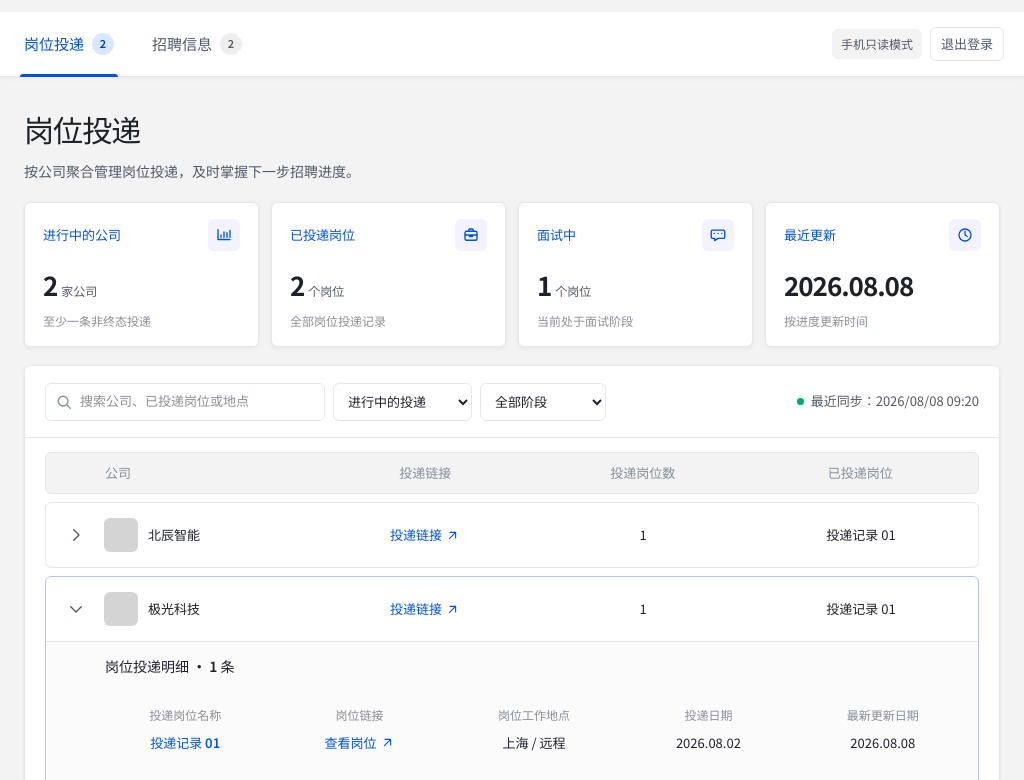
it: readonly WebApp › filters recruitment companies by priority and industry without exposing edits
expect the text "手机只读模式" is shown: met, box [832, 29, 922, 59]
Click the tab "招聘信息 2" at (197, 44), box [148, 12, 246, 76]
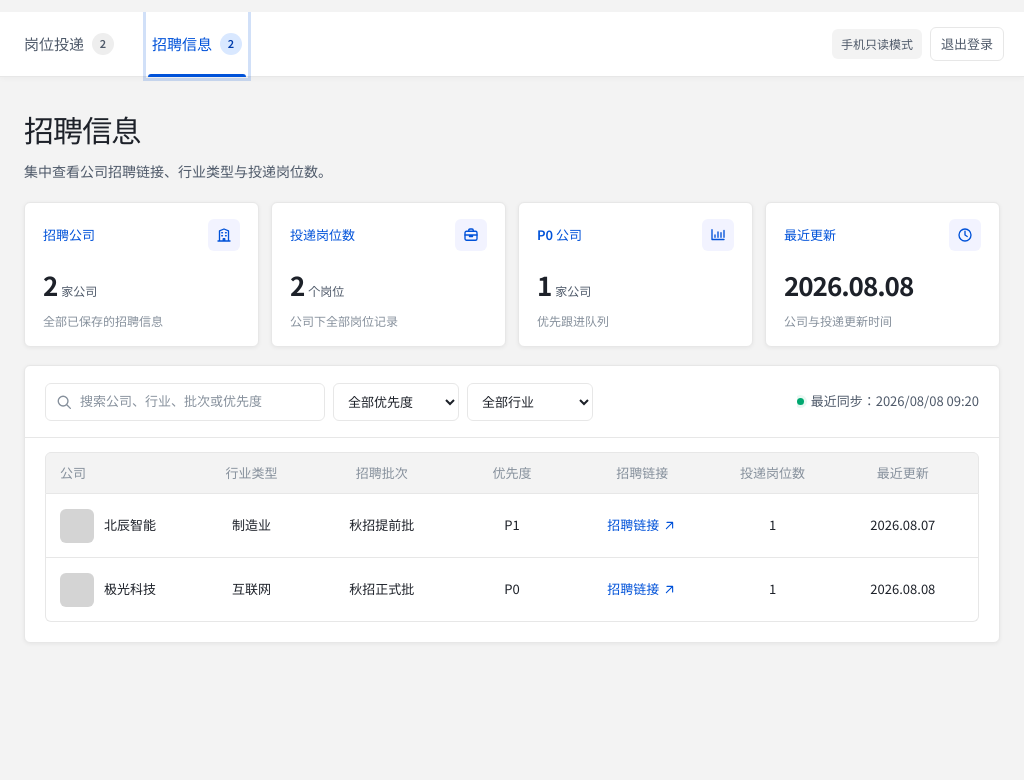
expect the text "极光科技" is shown: met, box [104, 579, 156, 600]
expect the text "北辰智能" is shown: met, box [104, 515, 156, 536]
Select "P0" in the 1st dropdown named "筛选优先度" at (396, 402), box [333, 383, 459, 421]
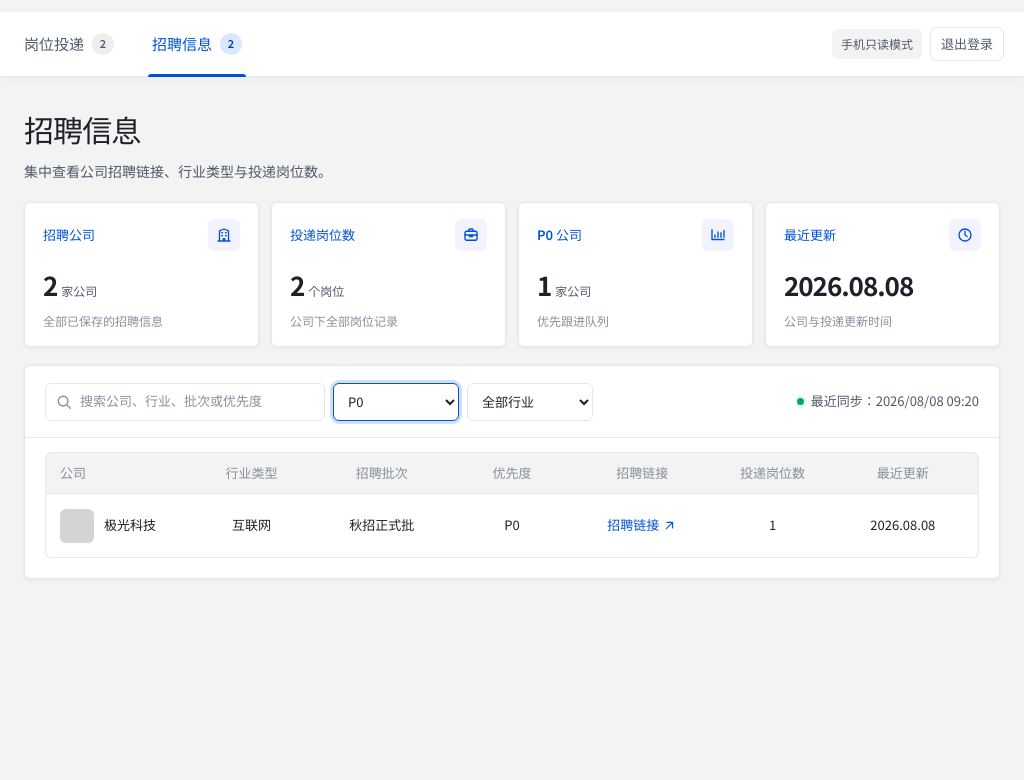
expect the text "极光科技" is shown: met, box [104, 515, 156, 536]
expect the text "北辰智能" is gone: met
Select "制造业" in the 2nd dropdown named "筛选行业" at (530, 402), box [467, 383, 593, 421]
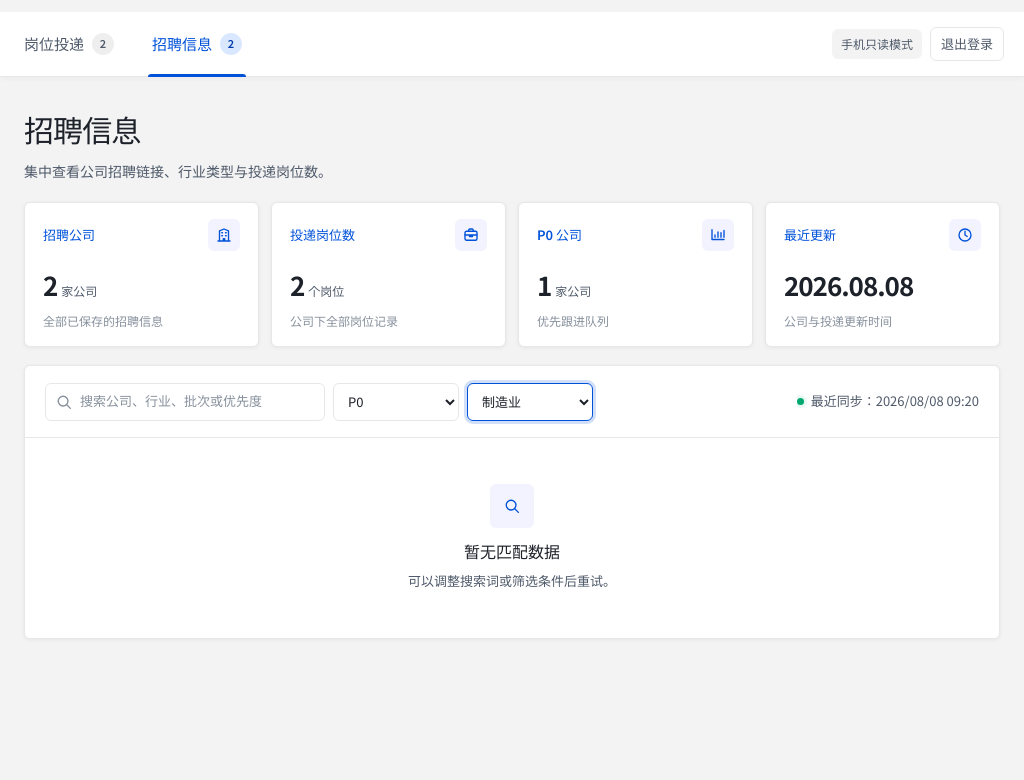
expect the heading "暂无匹配数据" is shown: met, box [464, 539, 560, 565]
